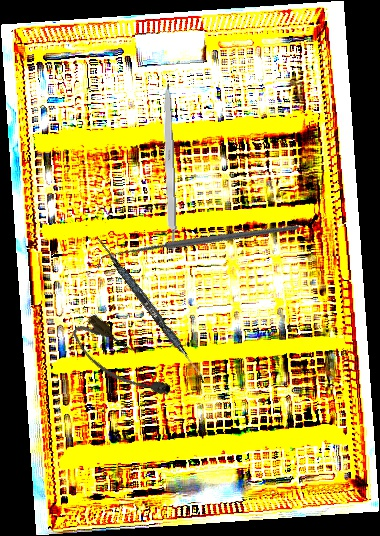Cannula: (65, 310, 178, 413)
Hook Surgical: (96, 159, 301, 333)
Scalpel Handle: (160, 82, 178, 255)
Spatula Surgical: (92, 236, 211, 384)
